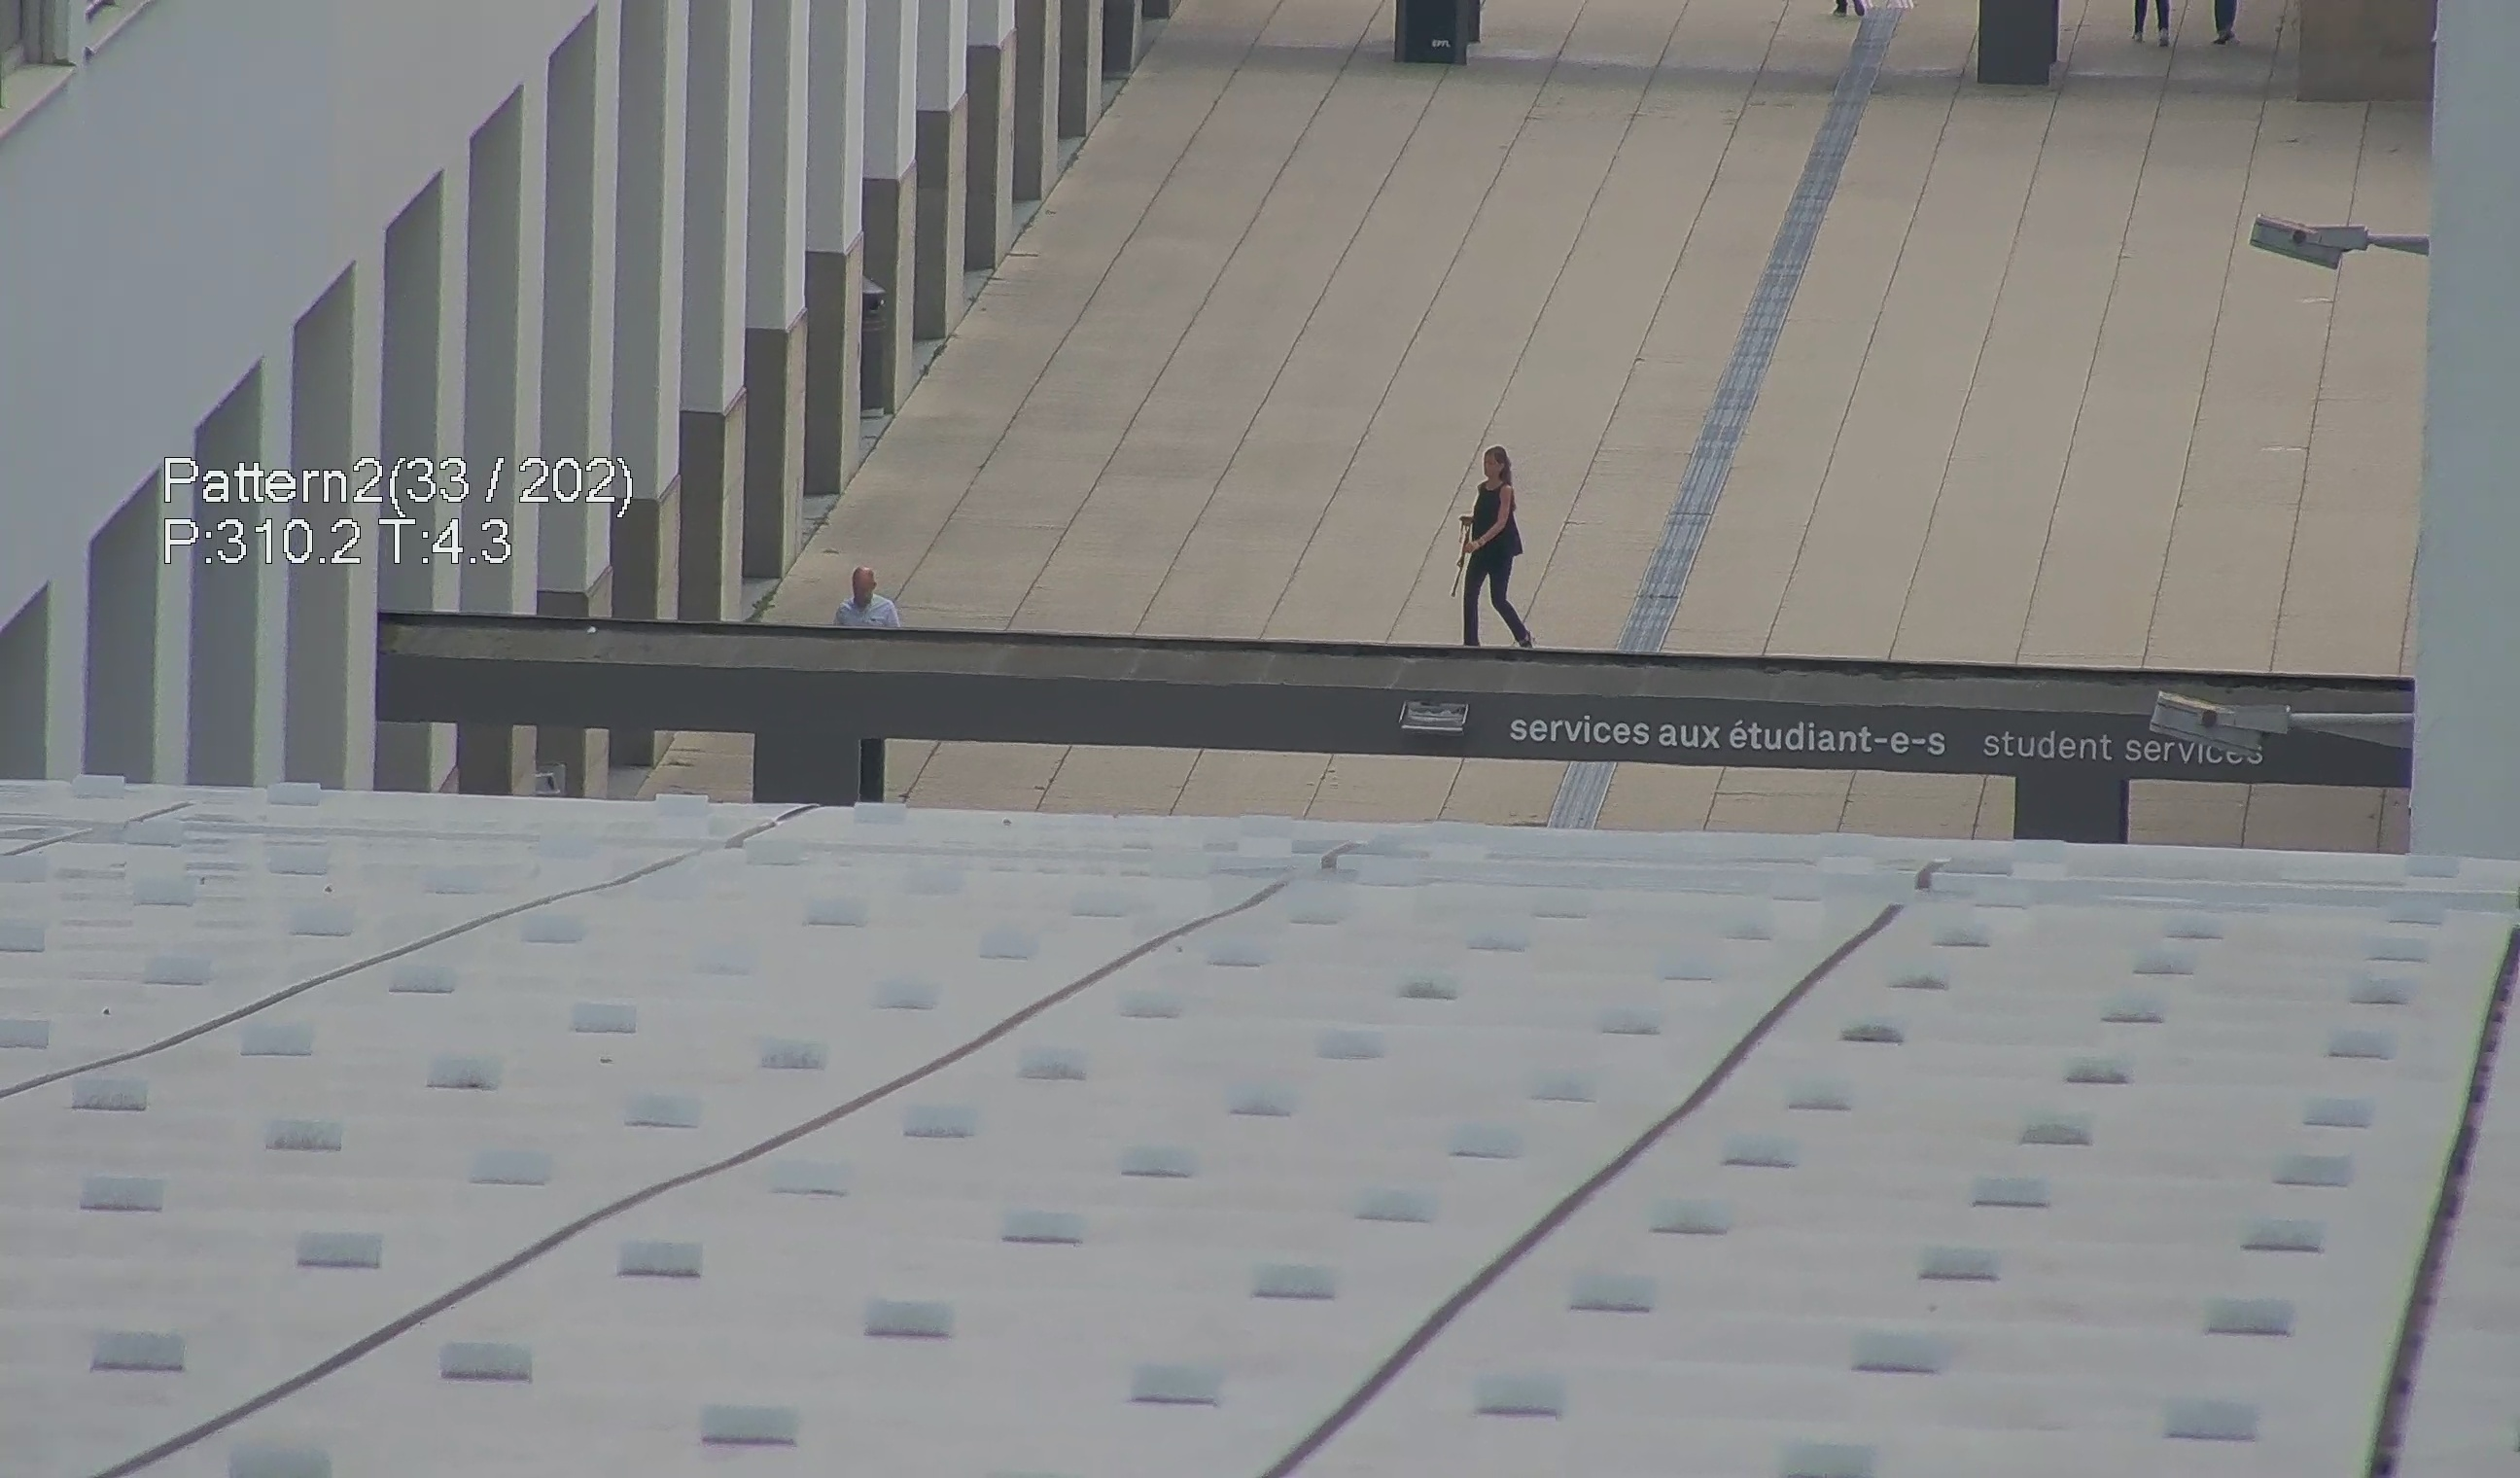Other: (827, 556, 897, 633)
